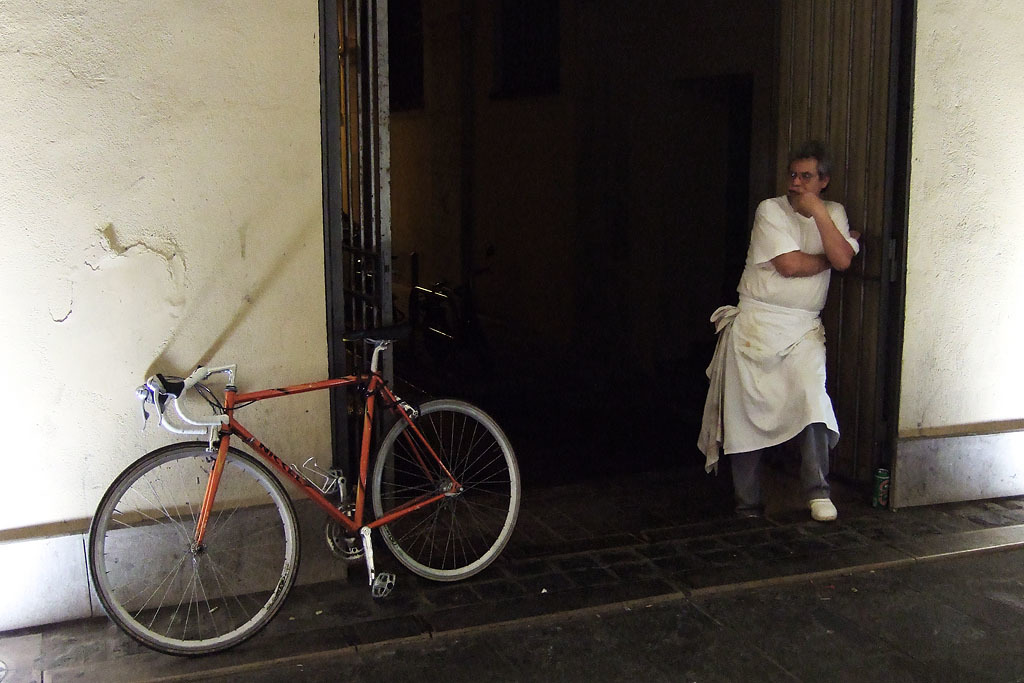Wheel: (85, 438, 303, 656), (372, 397, 521, 583)
